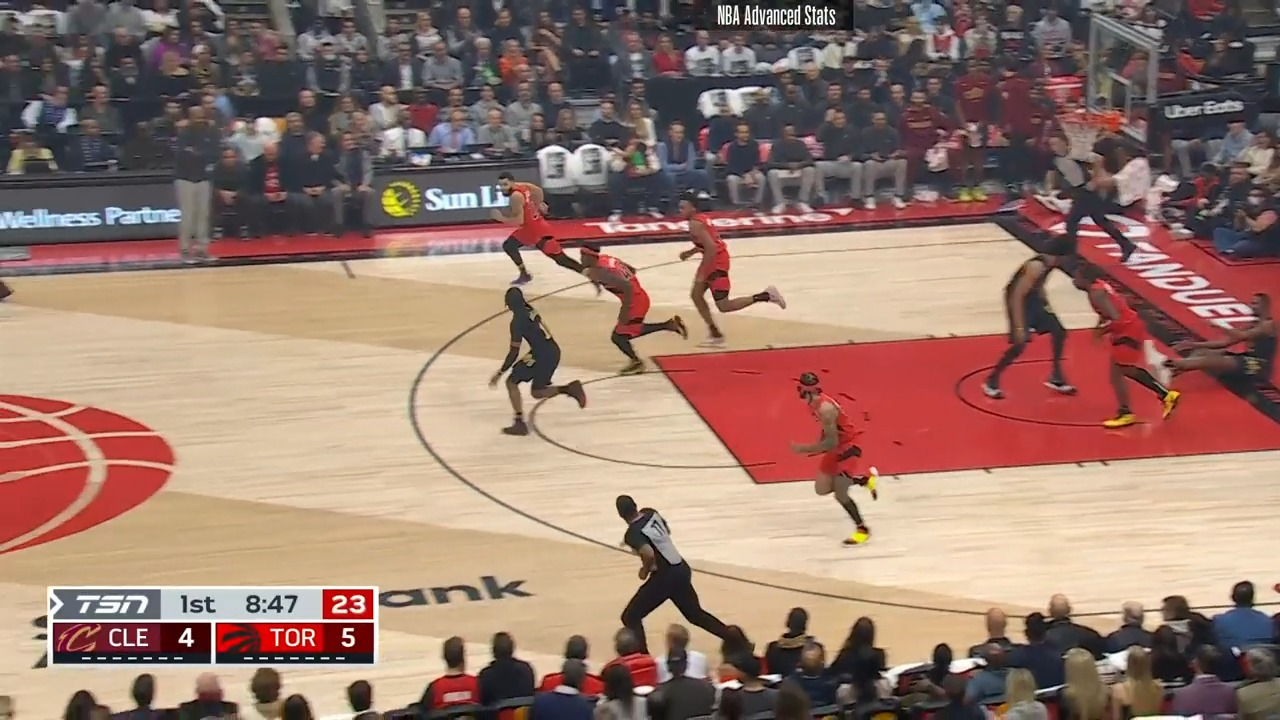net: (1051, 102, 1130, 161)
player: (1072, 263, 1180, 434), (671, 196, 787, 348), (790, 371, 885, 553), (493, 273, 593, 445), (979, 239, 1078, 405), (1146, 279, 1279, 402), (568, 241, 680, 379), (493, 166, 560, 288)
referee: (615, 495, 747, 646), (1045, 141, 1138, 270)
